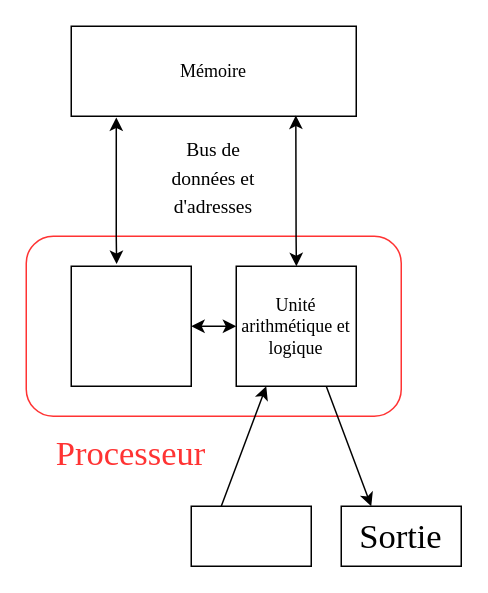
Some shapes in this 488 by 593 pixel diagram are drawn without their labels. Here are the shapes that lost their labels. From the top down, the box of each, then its label:
(70, 265, 191, 386): Unité de contrôle
(190, 505, 311, 566): Entrée
